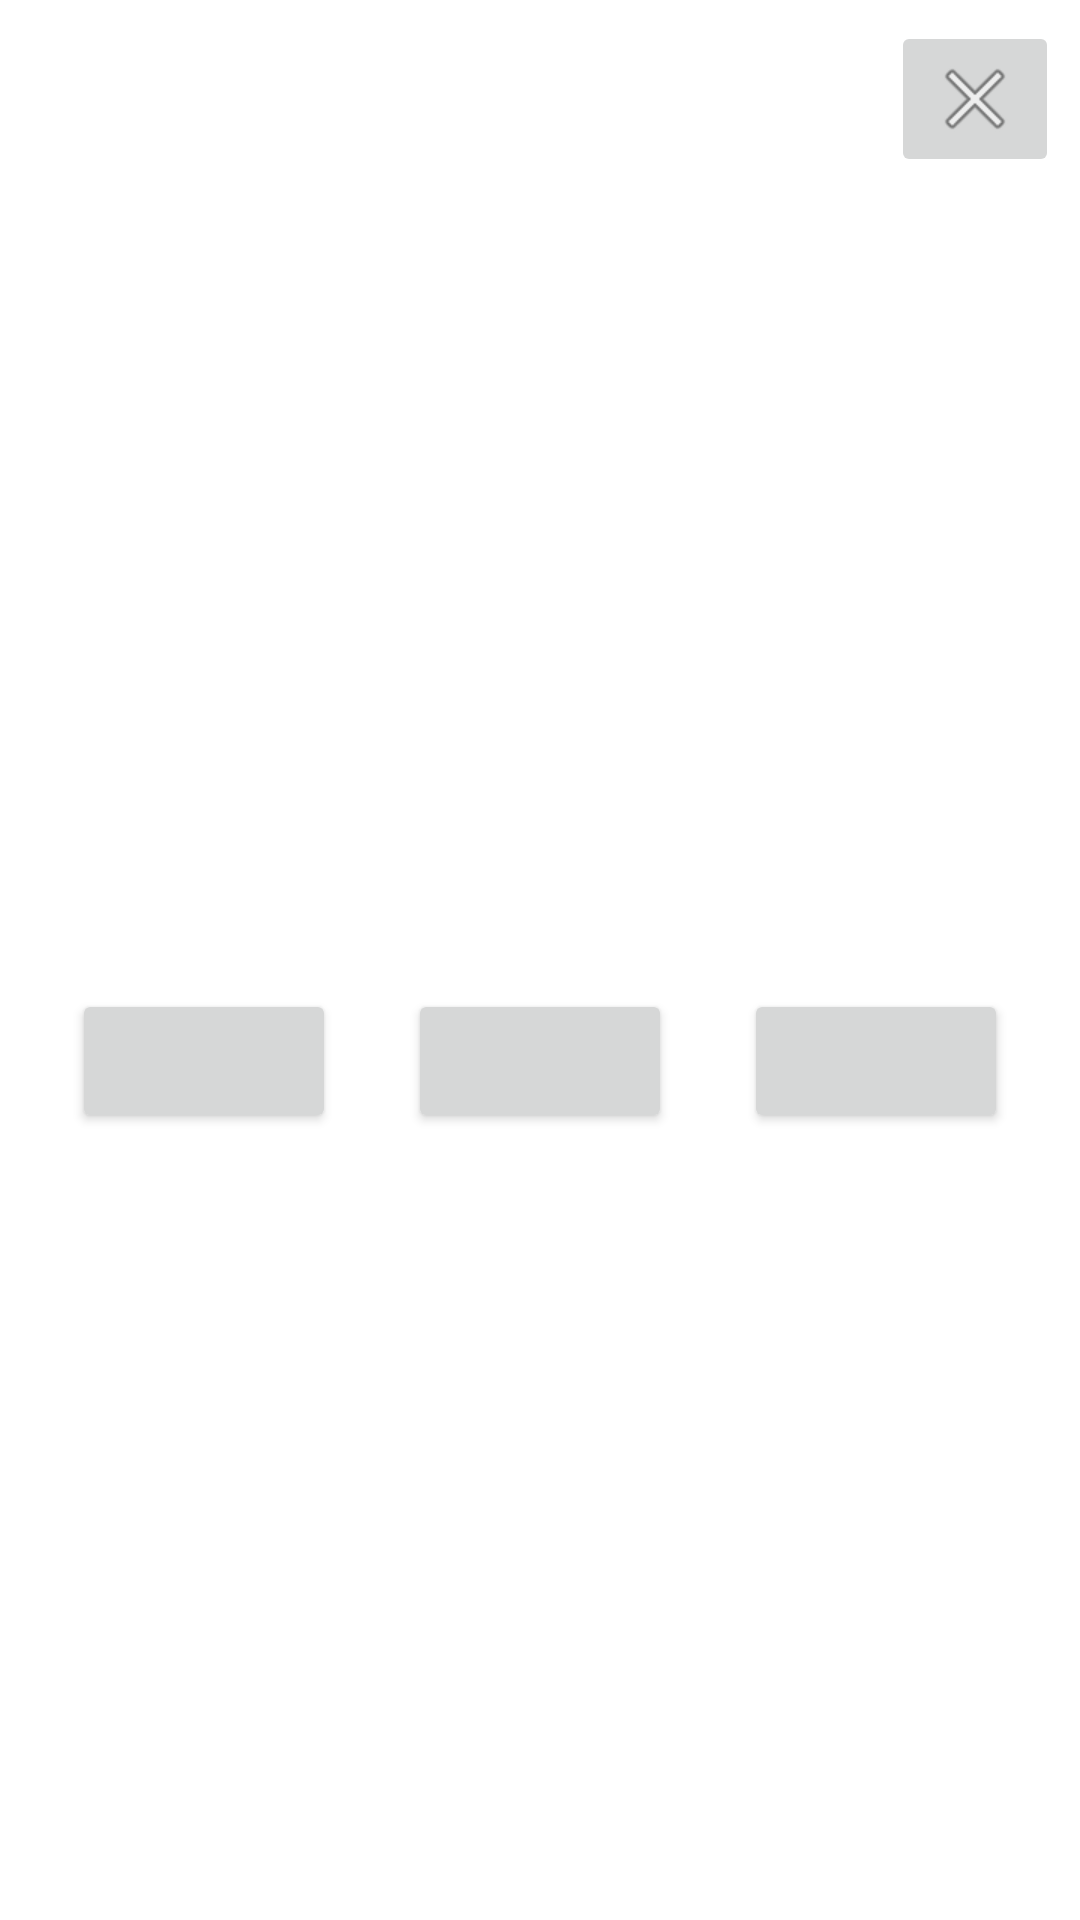

Screen size 1080px x 1920px. Icon name, then its box in pixels as (x1, y1, x2, y2):
close clear cancel: (903, 39, 1047, 159)
